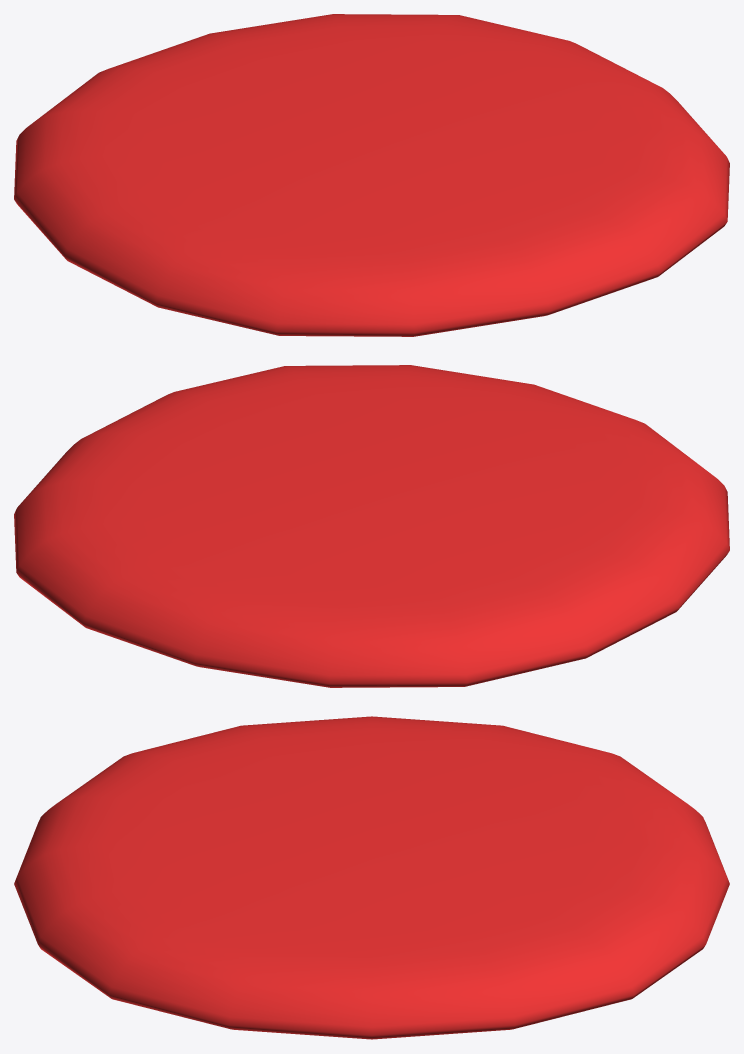
File: frisbee.fbx
The picture shows the model from 3 angles, top to bottom: view 1: azimuth 30°, elevation 25°; view 2: azimuth 150°, elevation 25°; view 3: azimuth 270°, elevation 25°; orthographic projection.
Visible parts, largest first — view 1: frisbee:pCube1; view 2: frisbee:pCube1; view 3: frisbee:pCube1.
Part boxes in pixels (left/top/right/bottom): frisbee:pCube1: left=14, top=14, right=729, bottom=336; frisbee:pCube1: left=14, top=365, right=729, bottom=687; frisbee:pCube1: left=14, top=716, right=729, bottom=1039.
Bounding box in the file's own units: 19.14 × 19.14 × 1.7.
Materials: 1 (1 with a texture image).
